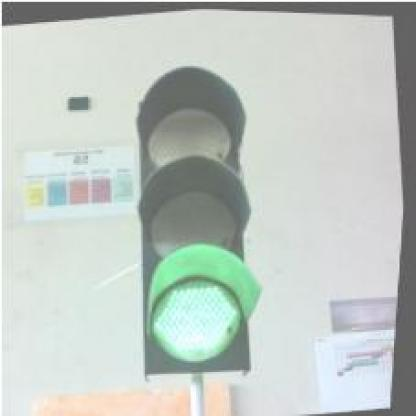green: (109, 55, 280, 381)
